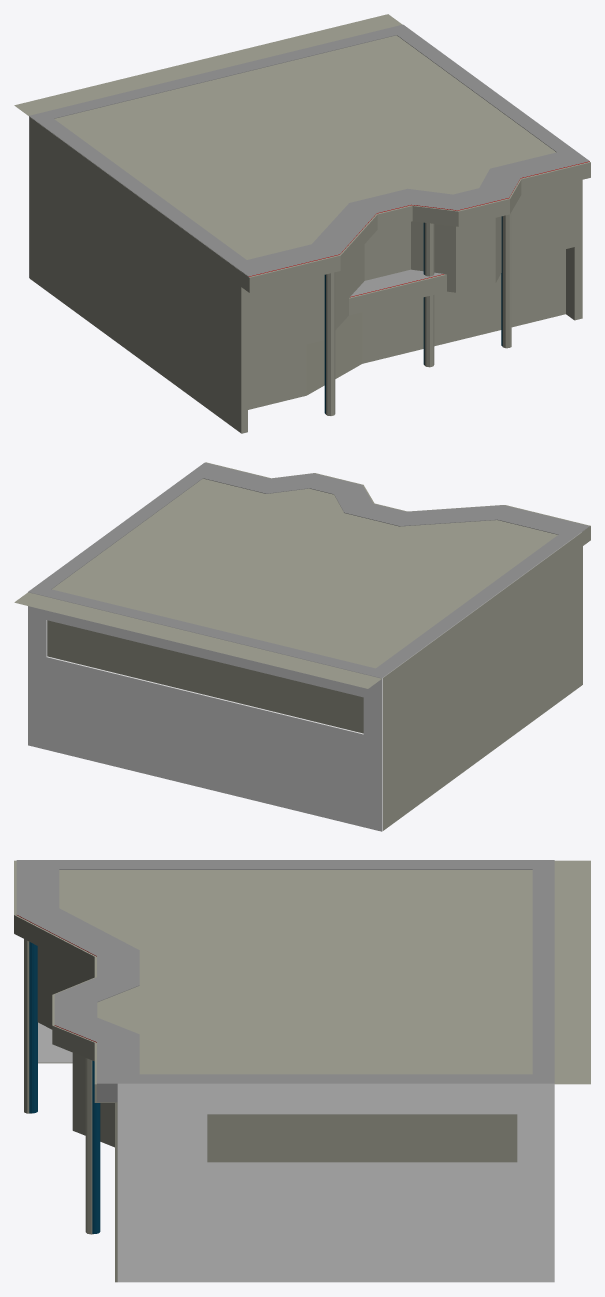
3 views of the same model, one above another, from view 1: azimuth 30°, elevation 25°; view 2: azimuth 150°, elevation 25°; view 3: azimuth 270°, elevation 25° (orthographic). The views are drawn at different scales.
Visible parts, largest first — view 1: Colider, BB-036; view 2: Colider, BB-036; view 3: Colider, BB-036.
Boxes of the visible parts, bbox=[...] form: Colider: bbox=[14, 14, 590, 433]; BB-036: bbox=[29, 24, 589, 413]; Colider: bbox=[14, 462, 590, 830]; BB-036: bbox=[28, 462, 589, 831]; Colider: bbox=[14, 860, 590, 1282]; BB-036: bbox=[16, 860, 554, 1282].
Size of the model in its own units: 16.01 by 6.64 by 17.45.
